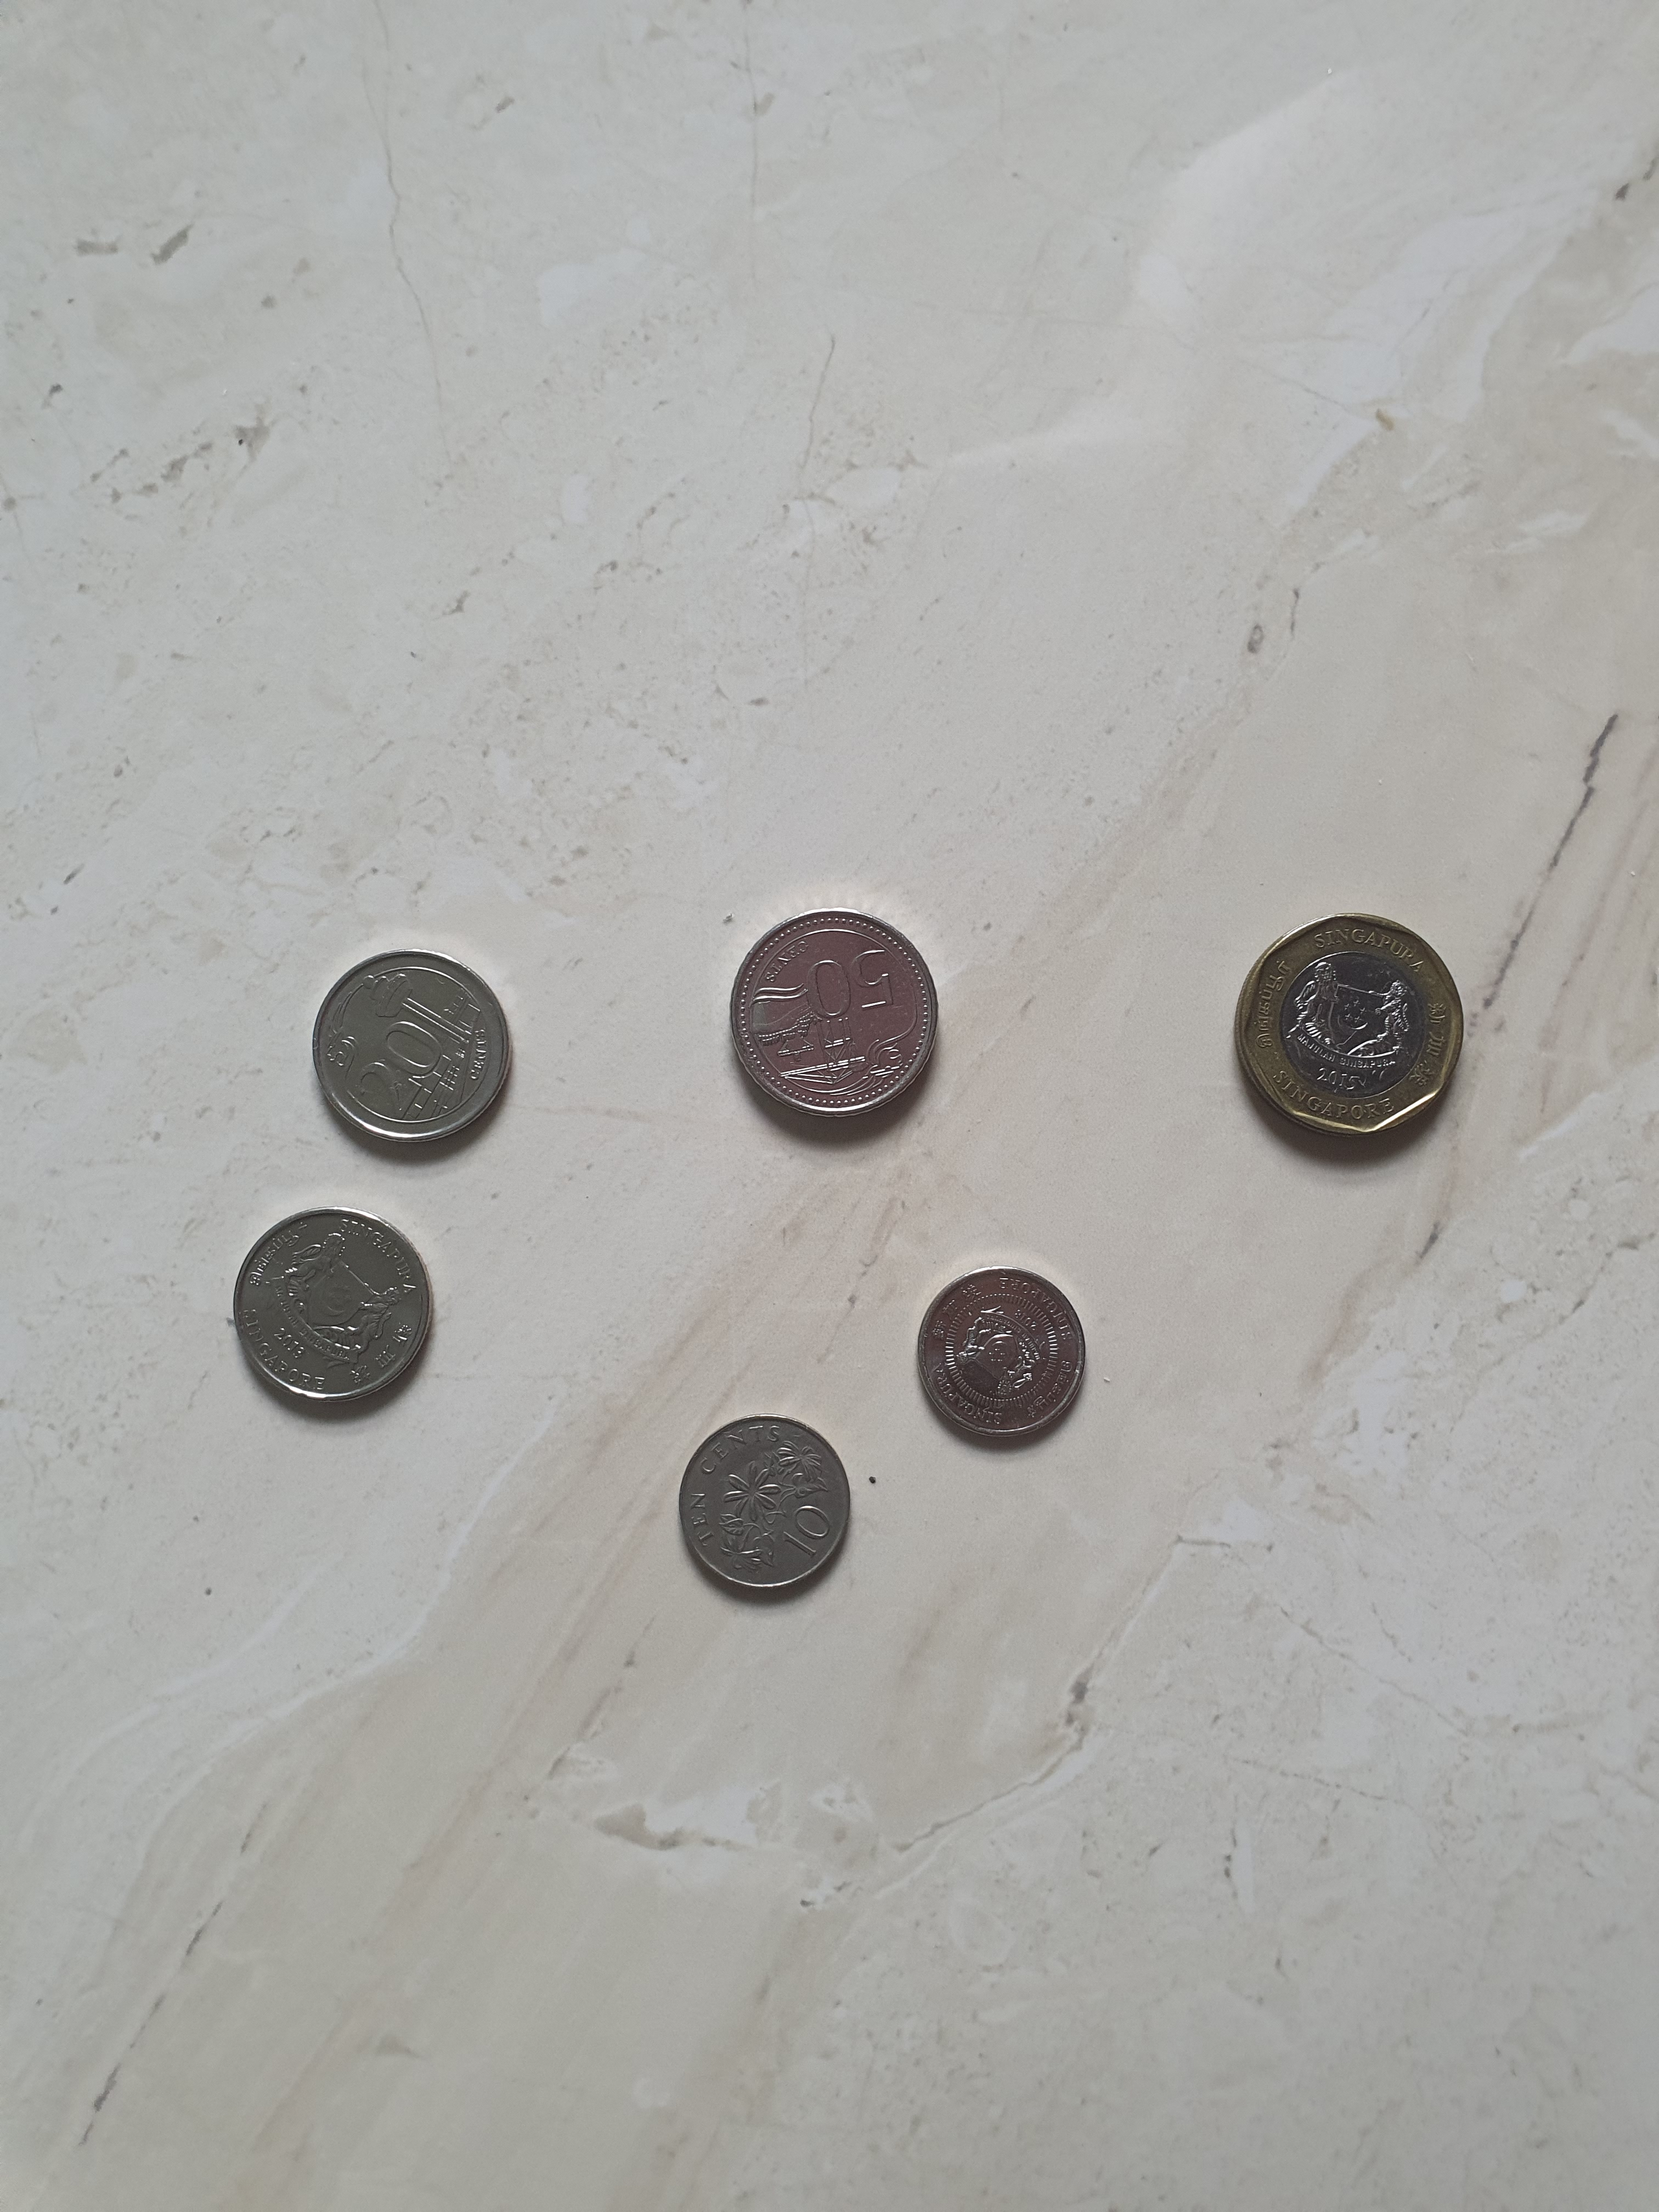$1: (1232, 911, 1467, 1136)
10c: (917, 1266, 1089, 1440), (680, 1416, 852, 1588)
20c: (234, 1204, 430, 1400), (315, 949, 511, 1146)
50c: (728, 909, 938, 1122)
